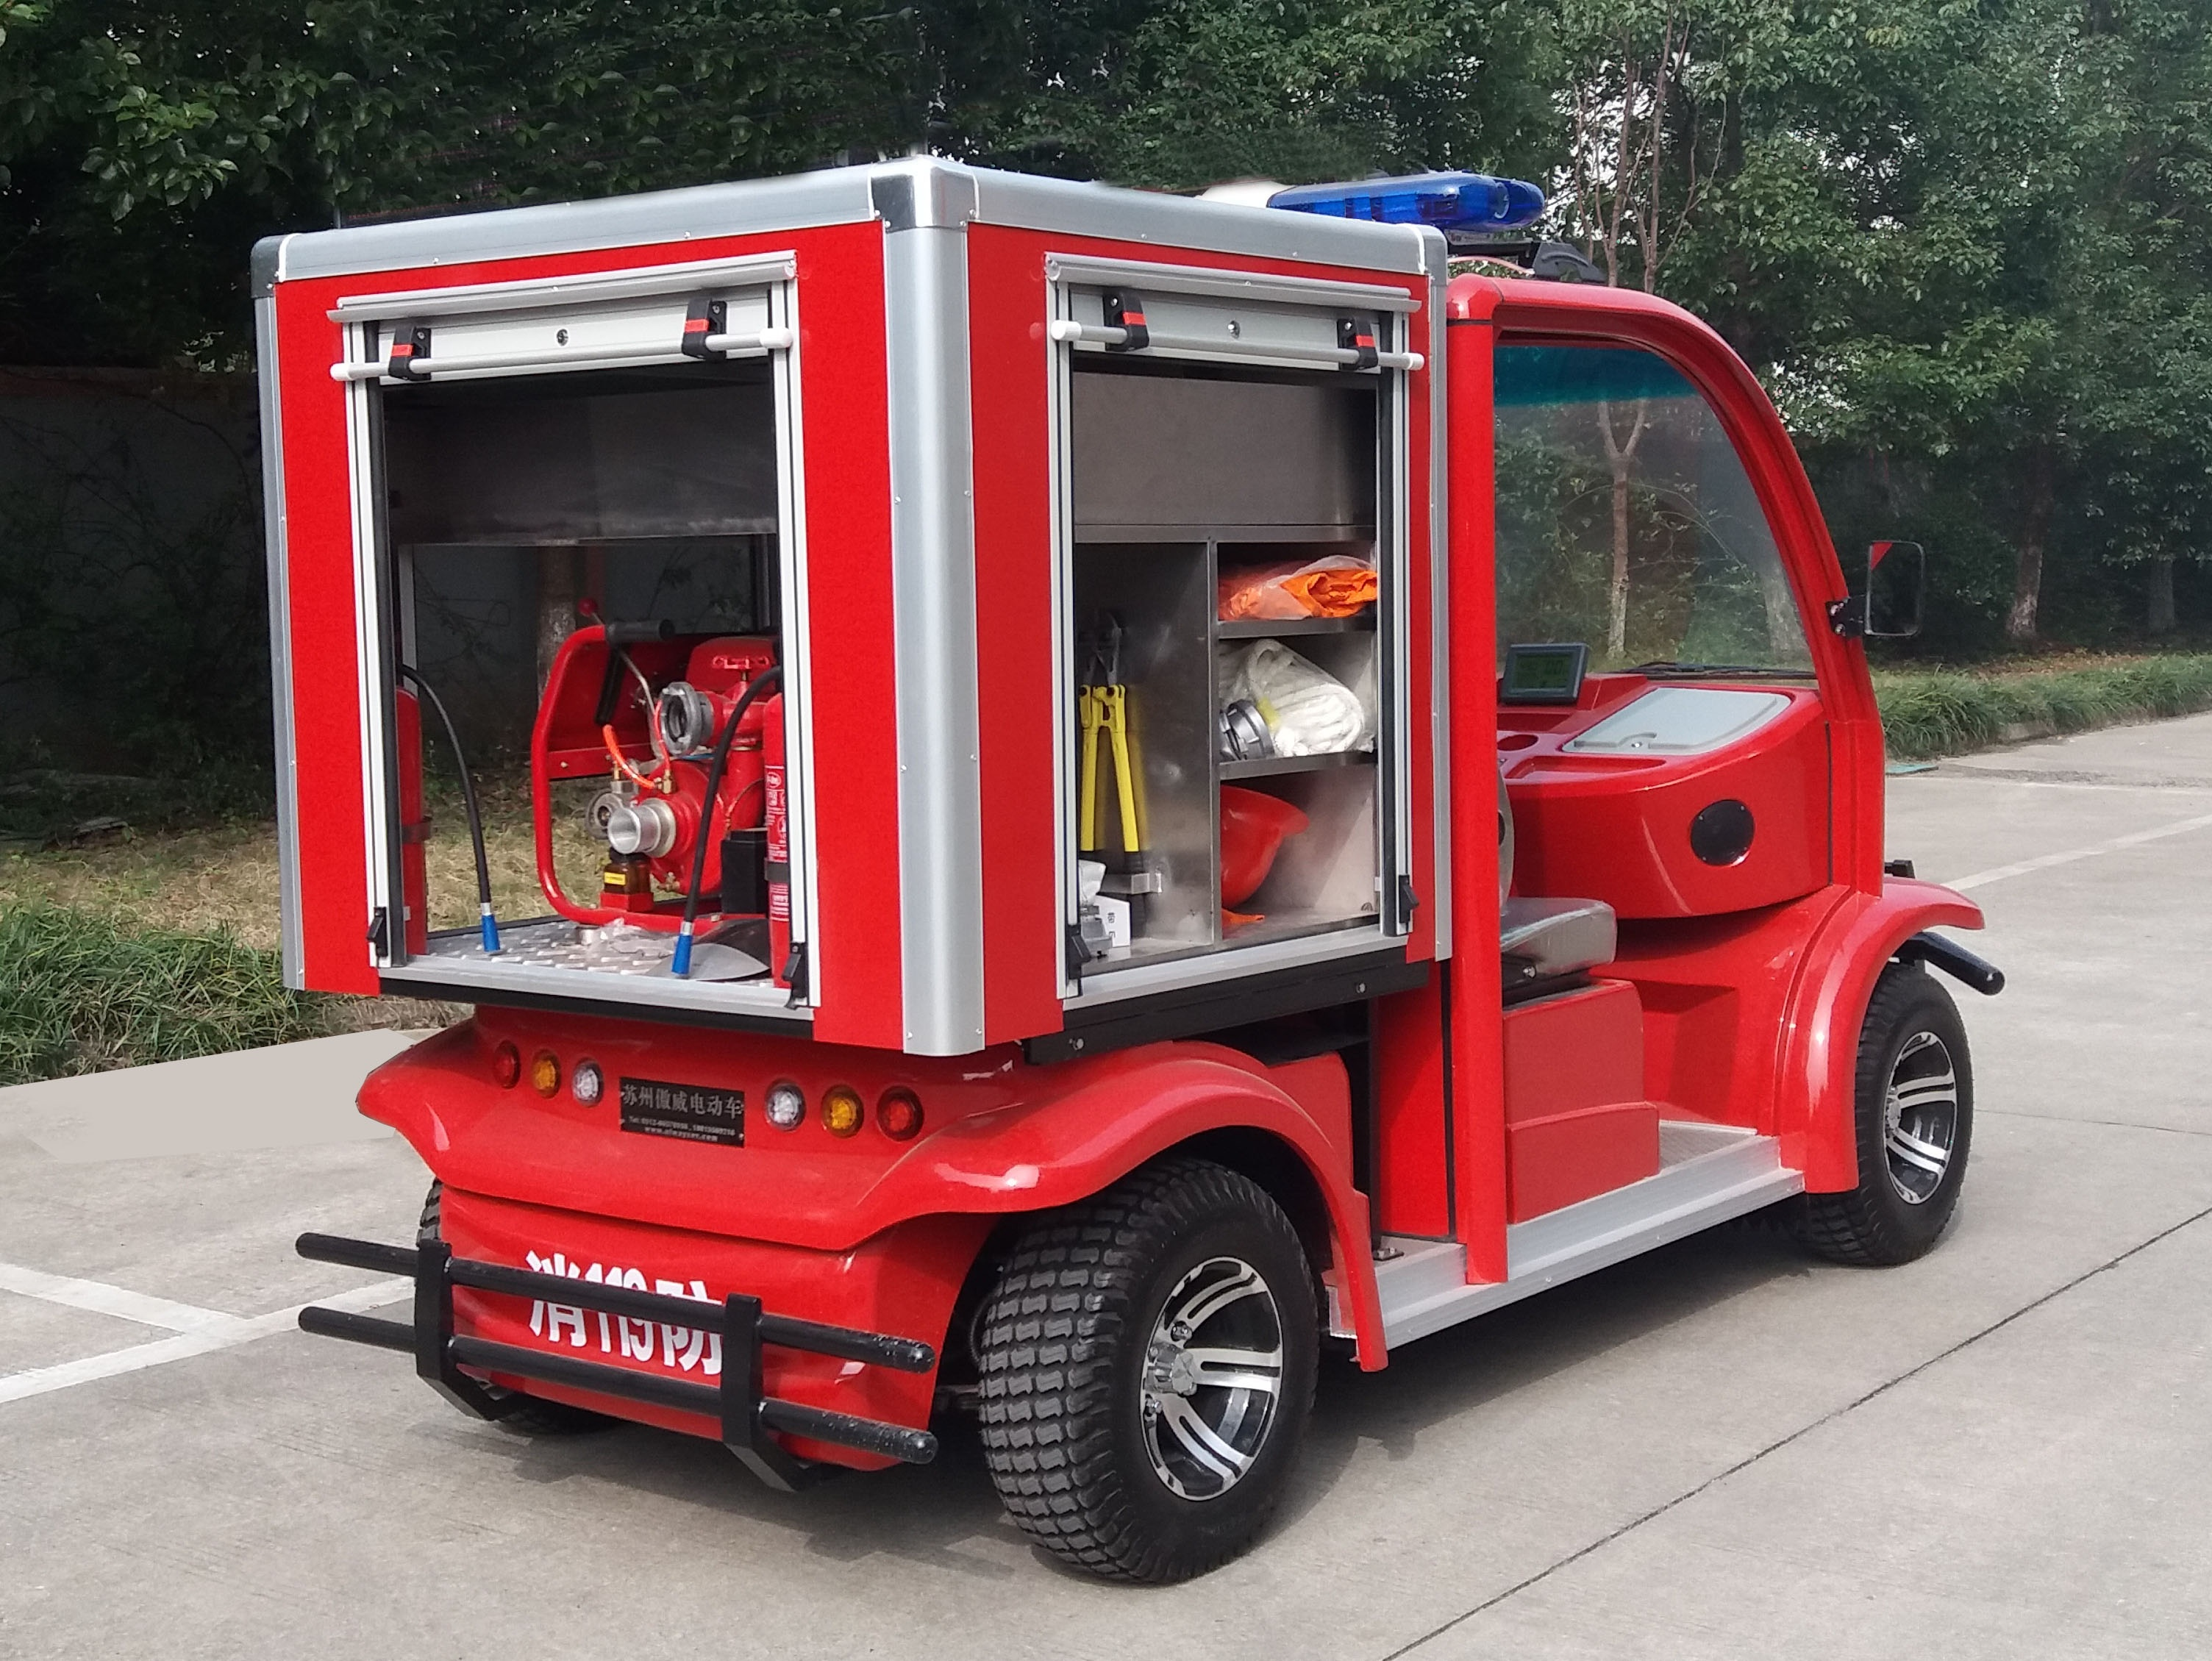fire engine: (222, 143, 1983, 1582)
